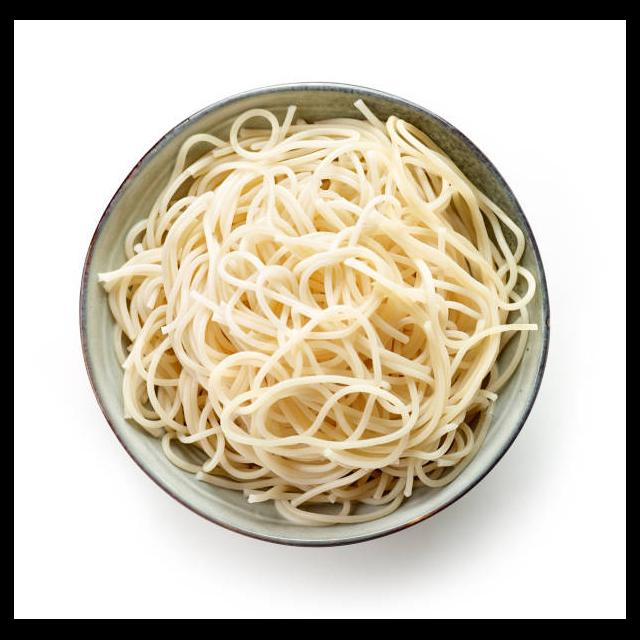noodles: (95, 98, 538, 526)
